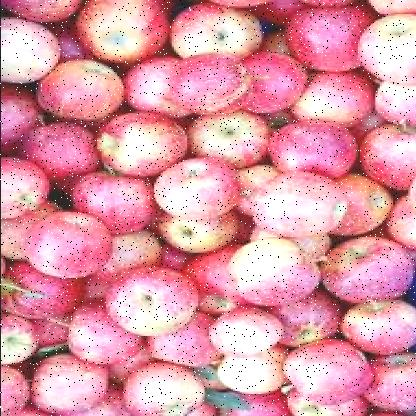apple: (320, 232, 412, 304), (260, 170, 344, 238), (114, 270, 195, 333), (291, 339, 370, 402), (170, 55, 250, 116), (35, 210, 110, 272), (241, 238, 315, 300), (116, 110, 184, 173), (50, 63, 124, 116), (168, 160, 236, 216)
